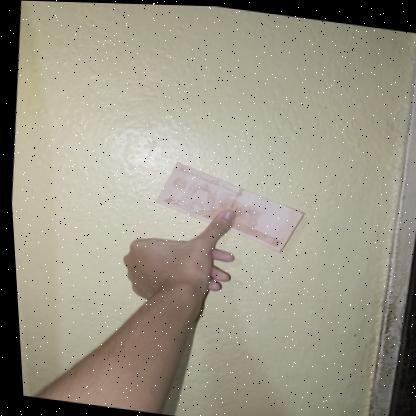twenty-back-vef: (146, 156, 306, 253)
